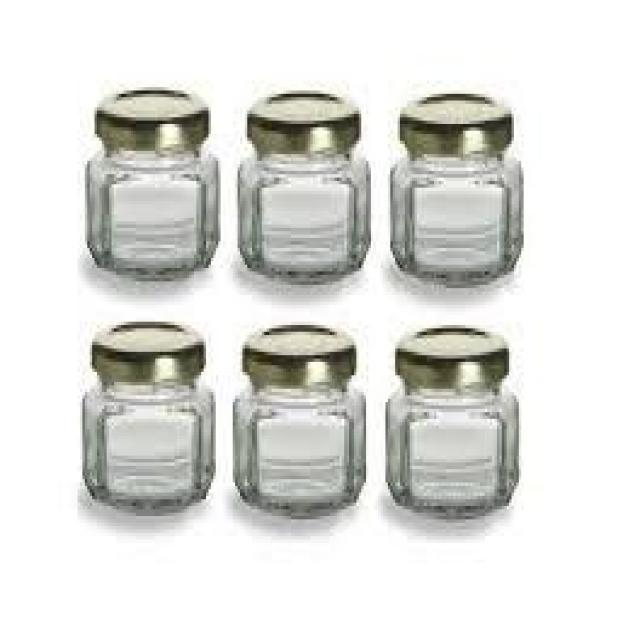non-organic waste: (232, 86, 376, 293)
